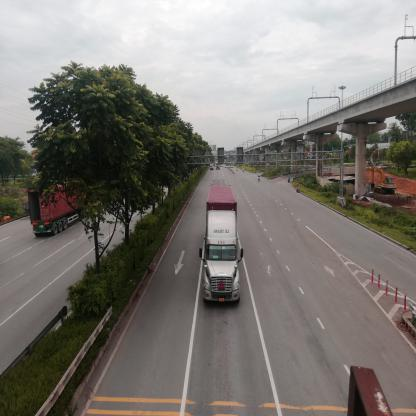container: (197, 183, 244, 311), (26, 179, 82, 241)
motorbike: (296, 186, 302, 194), (259, 176, 262, 182), (290, 176, 292, 184)
